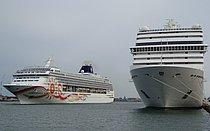Ship: (132, 23, 209, 113), (2, 60, 119, 107)
